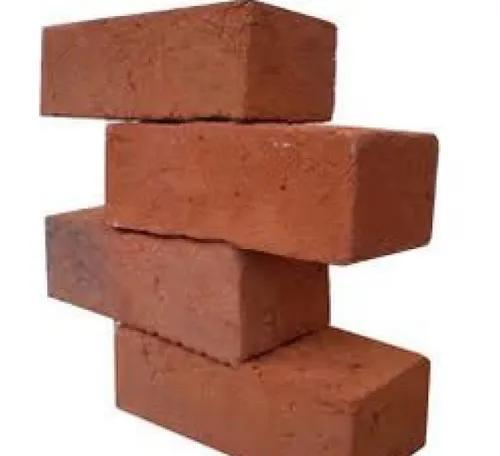brick: (101, 125, 368, 268), (112, 321, 358, 456), (44, 210, 246, 369), (39, 1, 251, 115)
